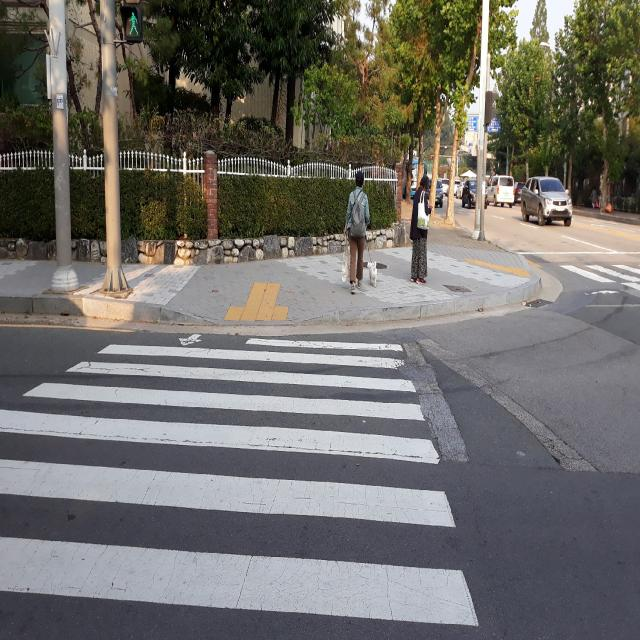횡단보도: (0, 324, 482, 640)
